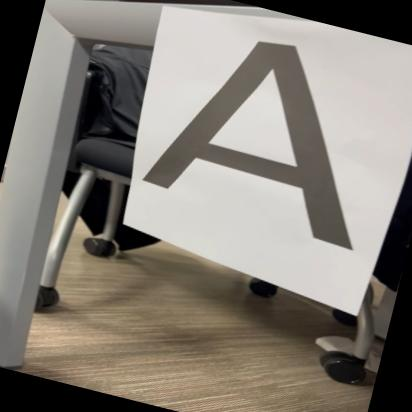seat: (136, 15, 405, 258)
